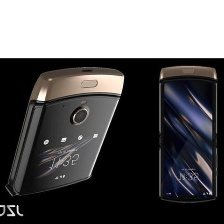phone: (2, 61, 128, 201), (155, 60, 221, 206)
